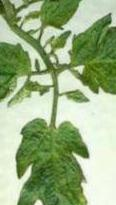Tomato leaf mosaic virus: (11, 115, 101, 205), (70, 15, 116, 96), (0, 37, 33, 120)
